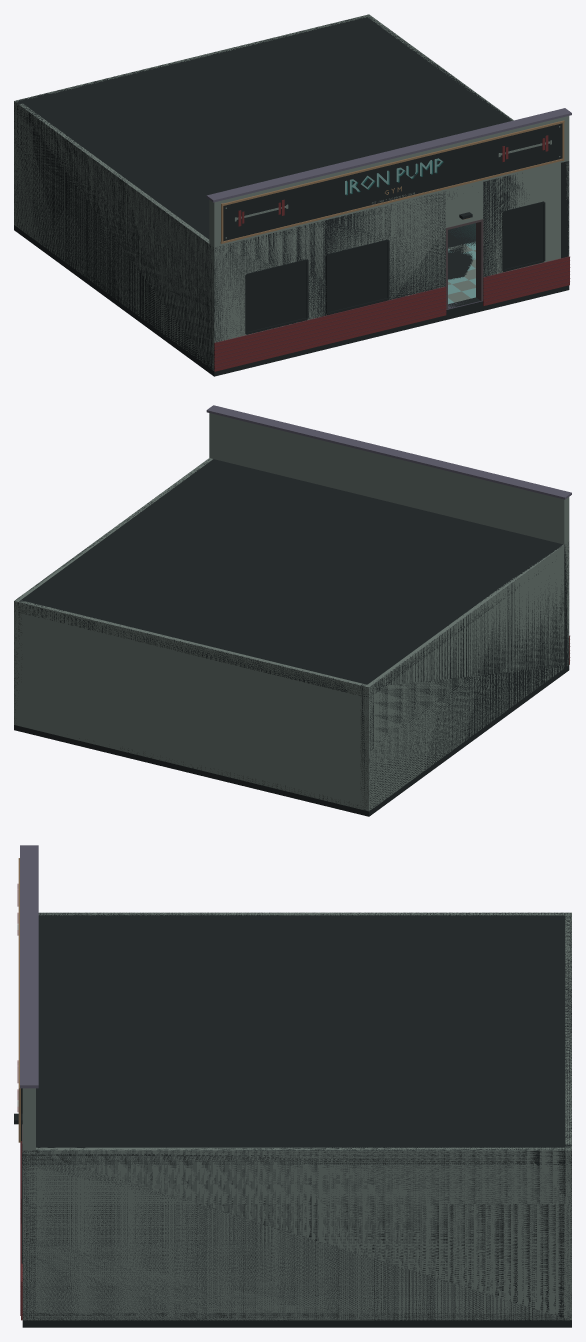
The model's file is sala_cladire.glb.
3 renders of one model, top to bottom at view 1: azimuth 30°, elevation 25°; view 2: azimuth 150°, elevation 25°; view 3: azimuth 270°, elevation 25°, orthographic. The views are drawn at different scales.
Visible parts, largest first — view 1: Coliziune, Cladire, Lumini; view 2: Cladire, Coliziune; view 3: Coliziune, Cladire.
Part boxes in pixels (box(x1,y1,x2,y2)): Coliziune: box(14, 14, 569, 376); Cladire: box(14, 14, 571, 371); Lumini: box(345, 158, 469, 219); Cladire: box(14, 405, 571, 811); Coliziune: box(14, 459, 569, 816); Coliziune: box(22, 912, 571, 1327); Cladire: box(14, 845, 571, 1320).
Bounding box in the file's own units: 10.6 × 5.01 × 10.41.
